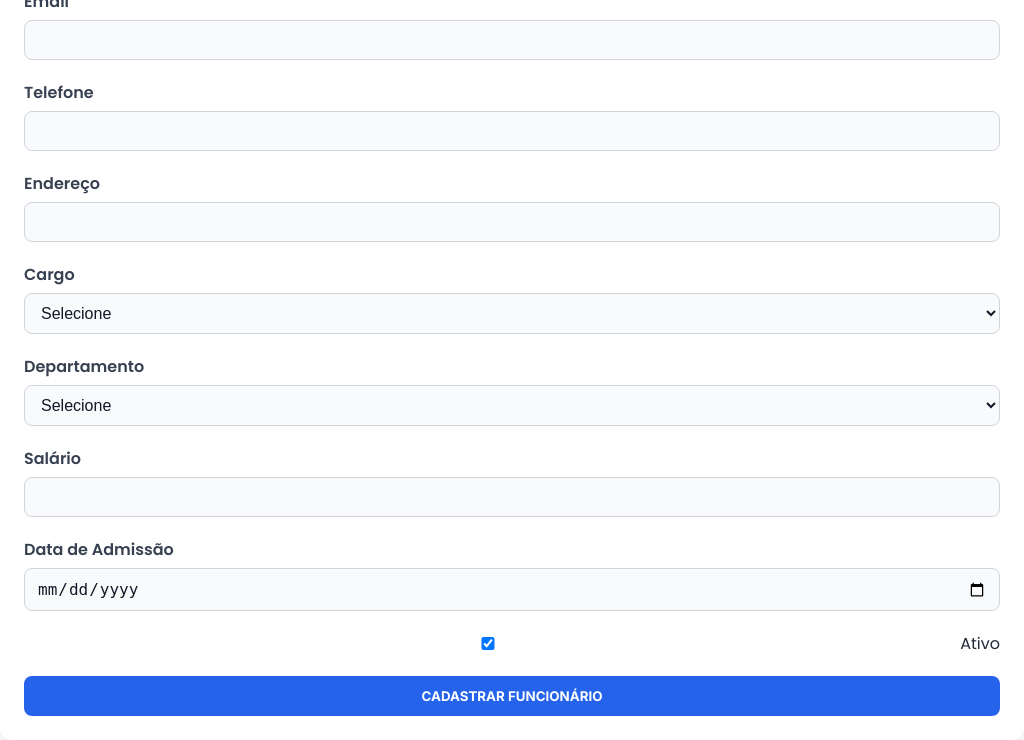
Test: EmployeeForm › mostra erros de validação ao tentar enviar sem preencher campos
(page scrolled)
Click the button "Cadastrar Funcionário" at (512, 696), box x1=24 y1=676 x2=1000 y2=716
(page scrolled)
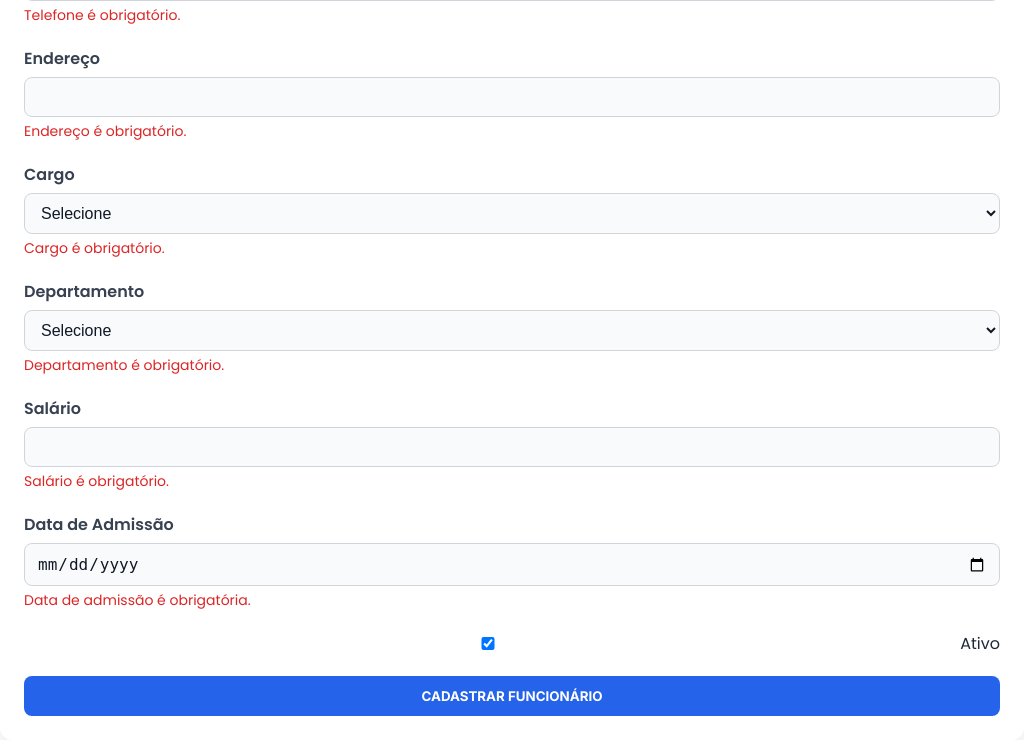
Now the text "Telefone é obrigatório." is shown, box x1=24 y1=5 x2=180 y2=25
Now the text "Endereço é obrigatório." is shown, box x1=24 y1=121 x2=186 y2=141
Now the text "Cargo é obrigatório." is shown, box x1=24 y1=238 x2=165 y2=258
